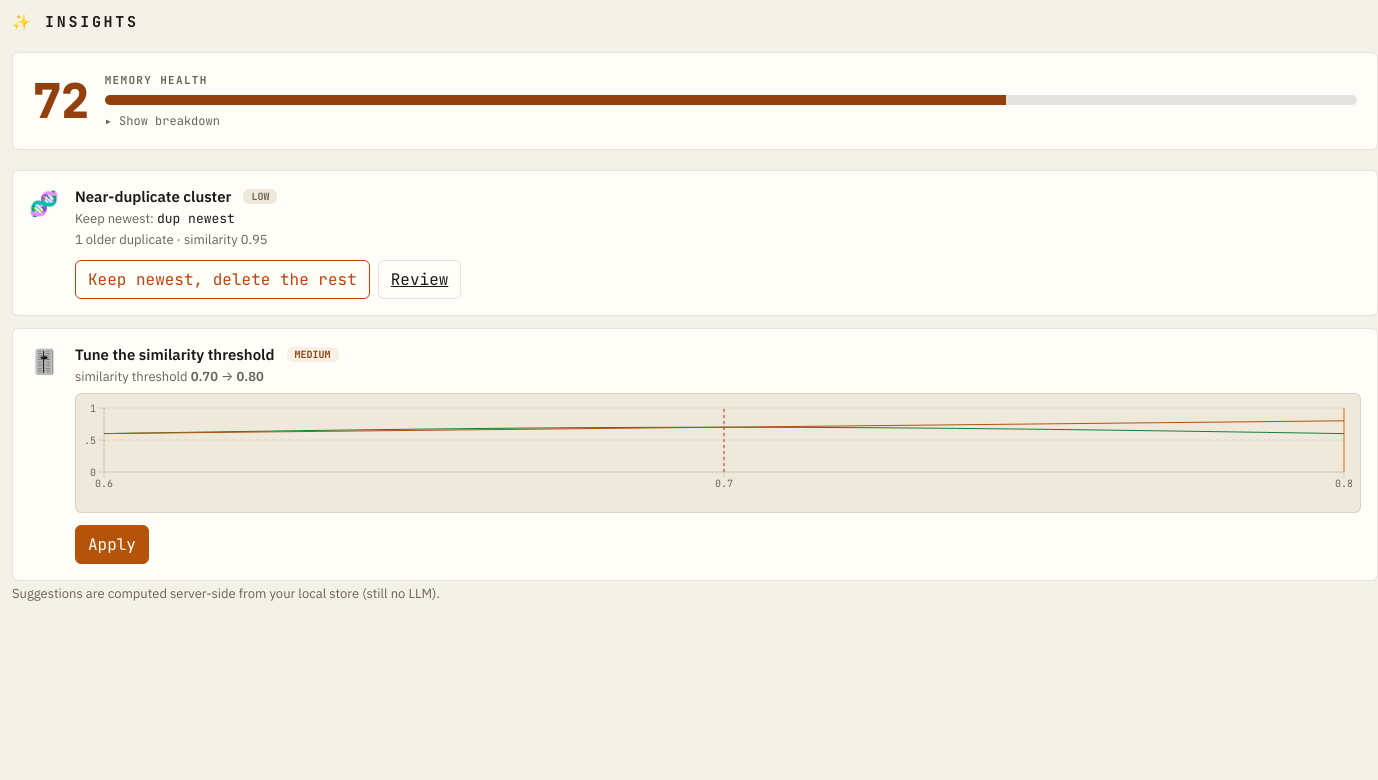
Test case: Insights page › near-dup card: first click only arms the confirm — no delete yet
The width and height of the screenshot is (1378, 780).
Click the button "Keep newest, delete the rest" at (222, 280), box [75,260,370,299]
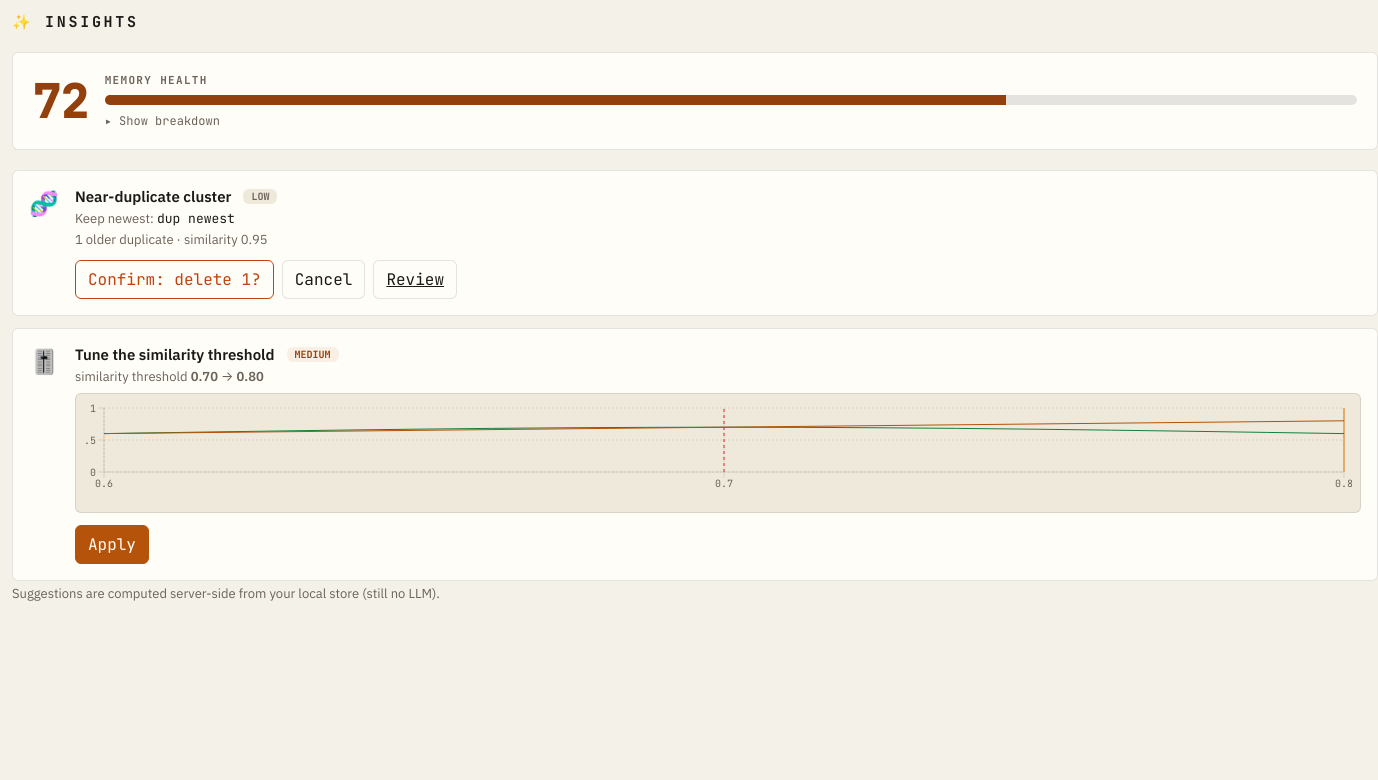
Expected: the button "Confirm: delete 1?" is shown, [75,260,274,299]
